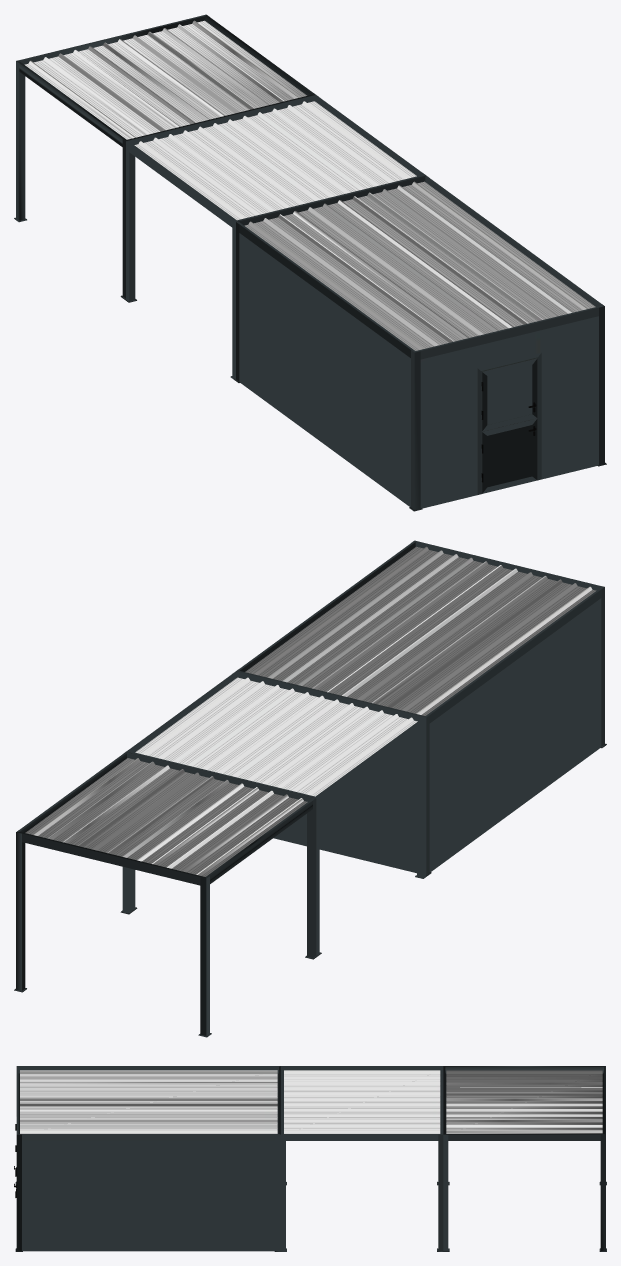
Rendered from 13444_carport6x3abri5x3.fbx.
3 renders of one model, top to bottom at view 1: azimuth 30°, elevation 25°; view 2: azimuth 150°, elevation 25°; view 3: azimuth 270°, elevation 25°, orthographic. The views are drawn at different scales.
Visible parts, largest first — view 1: priximbattable_net_box_a_cheval_13444_module_carport_box_che, folhabaixo, folhacima, porta; view 2: priximbattable_net_box_a_cheval_13444_module_carport_box_che; view 3: priximbattable_net_box_a_cheval_13444_module_carport_box_che.
Part boxes in pixels (x1,y1,x2,y2): priximbattable_net_box_a_cheval_13444_module_carport_box_che: (14, 14, 606, 511); folhabaixo: (481, 418, 537, 493); folhacima: (481, 358, 537, 431); porta: (477, 352, 541, 494); priximbattable_net_box_a_cheval_13444_module_carport_box_che: (14, 540, 606, 1037); priximbattable_net_box_a_cheval_13444_module_carport_box_che: (15, 1066, 606, 1251).
Size of the model in its own units: 324 by 254 by 1168.
Materials: 1 (1 with a texture image).
